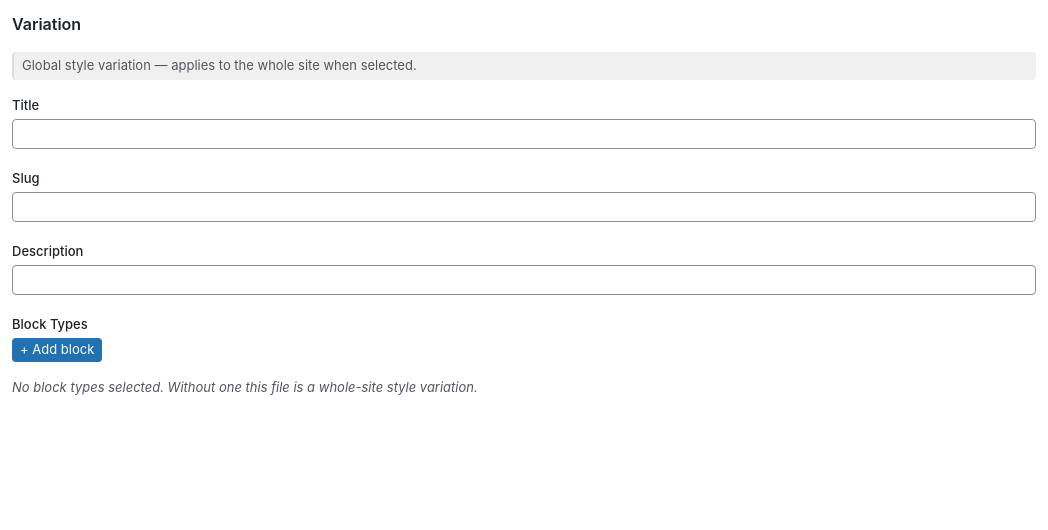
Test case: SectionPanel — variation hints › updates as the document changes
Expected: the list named "Variation hints" shows "whole site", [22, 57, 417, 73]
Click the button "+ Add block".
click(57, 350)  # box [12, 338, 102, 362]
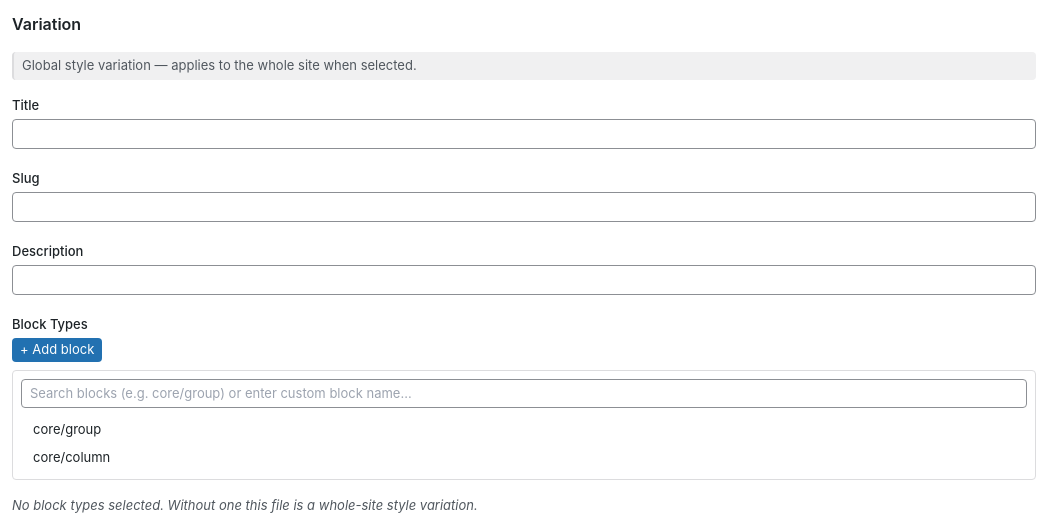
Click the button "core/group".
click(67, 429)  # box [21, 416, 1027, 444]
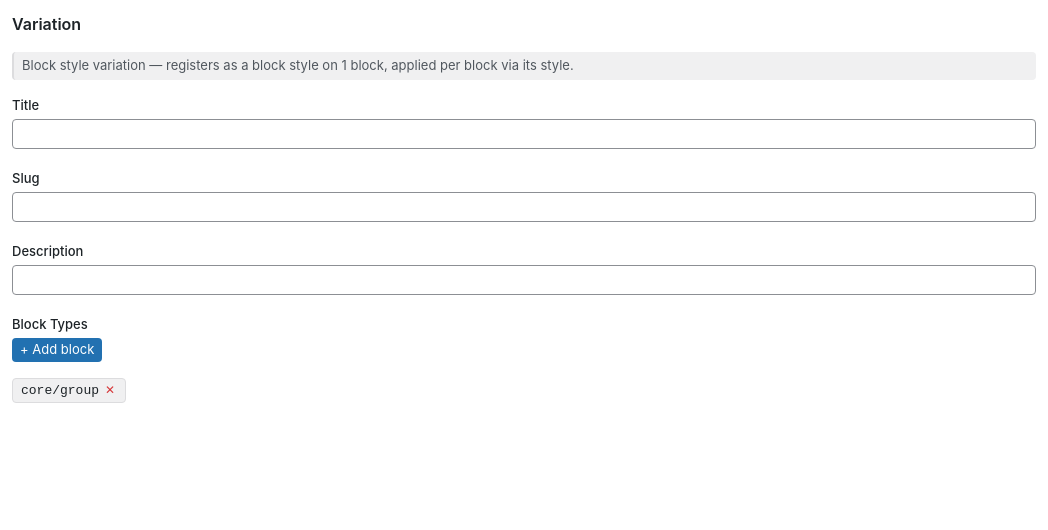
Now the list named "Variation hints" shows "Block style variation", box [22, 57, 574, 73]
